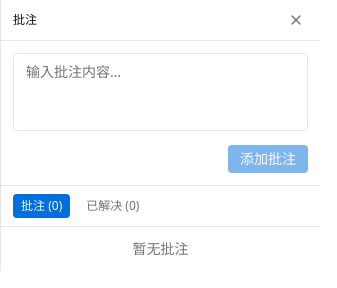
Test: CommentPanel › 有选区时 › 输入文本后「添加批注」按钮可用
Type "新批注内容" into the text box with placeholder "输入批注内容…" at (160, 92), box [13,53,308,131]
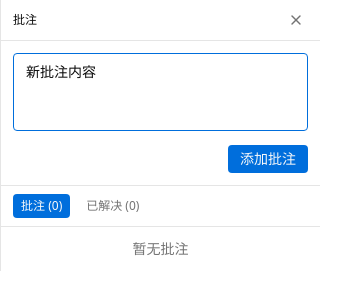
Expected: the button "添加批注" is enabled, [228,145,308,173]
